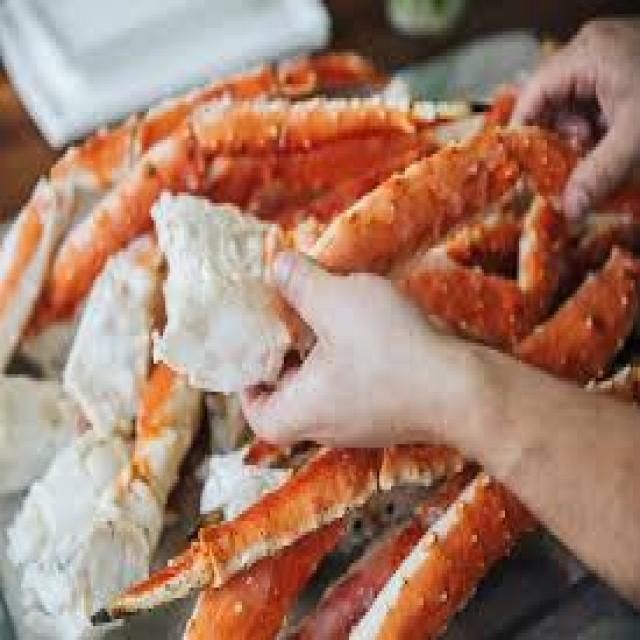crab: (44, 61, 409, 247), (161, 451, 435, 640), (411, 132, 566, 342)
